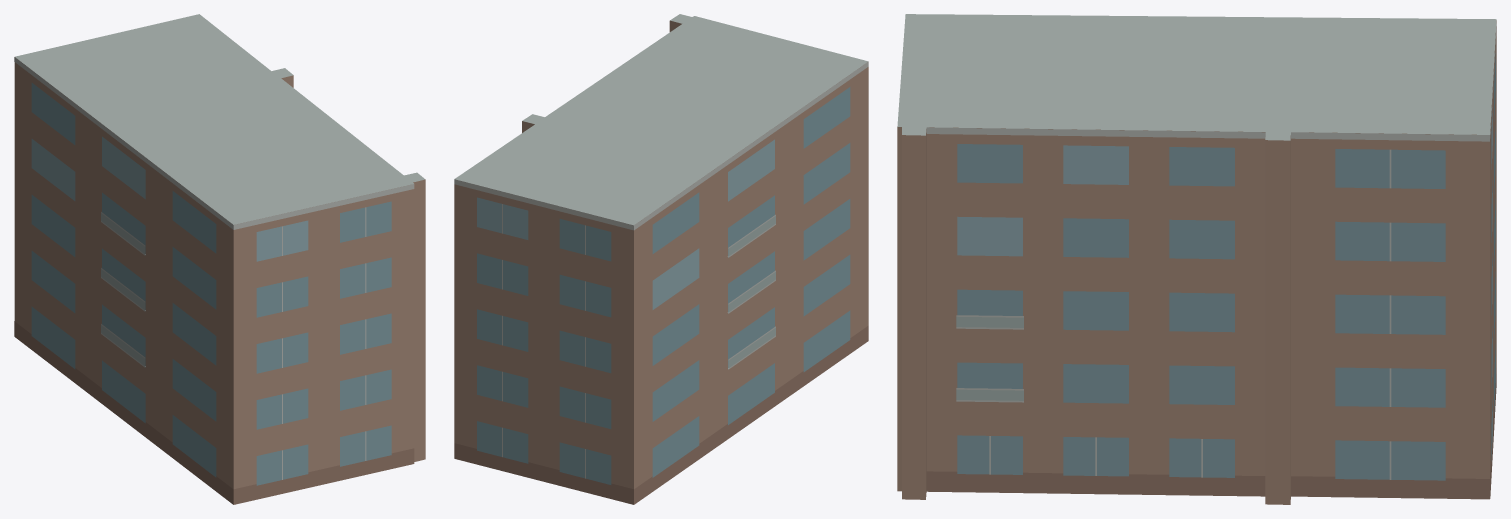
File: survey-upis-32703034.glb
3 renders of one model, left to right at view 1: azimuth 30°, elevation 25°; view 2: azimuth 150°, elevation 25°; view 3: azimuth 270°, elevation 25°, orthographic. The views are drawn at different scales.
Visible parts, largest first — view 1: survey-upis-32703034.tmp; view 2: survey-upis-32703034.tmp; view 3: survey-upis-32703034.tmp.
Boxes of the visible parts, left/top/right/bottom form: survey-upis-32703034.tmp: left=14, top=14, right=425, bottom=504; survey-upis-32703034.tmp: left=454, top=14, right=868, bottom=504; survey-upis-32703034.tmp: left=897, top=14, right=1496, bottom=504.
Size of the model in its own units: 9.99 by 13.4 by 19.98.
